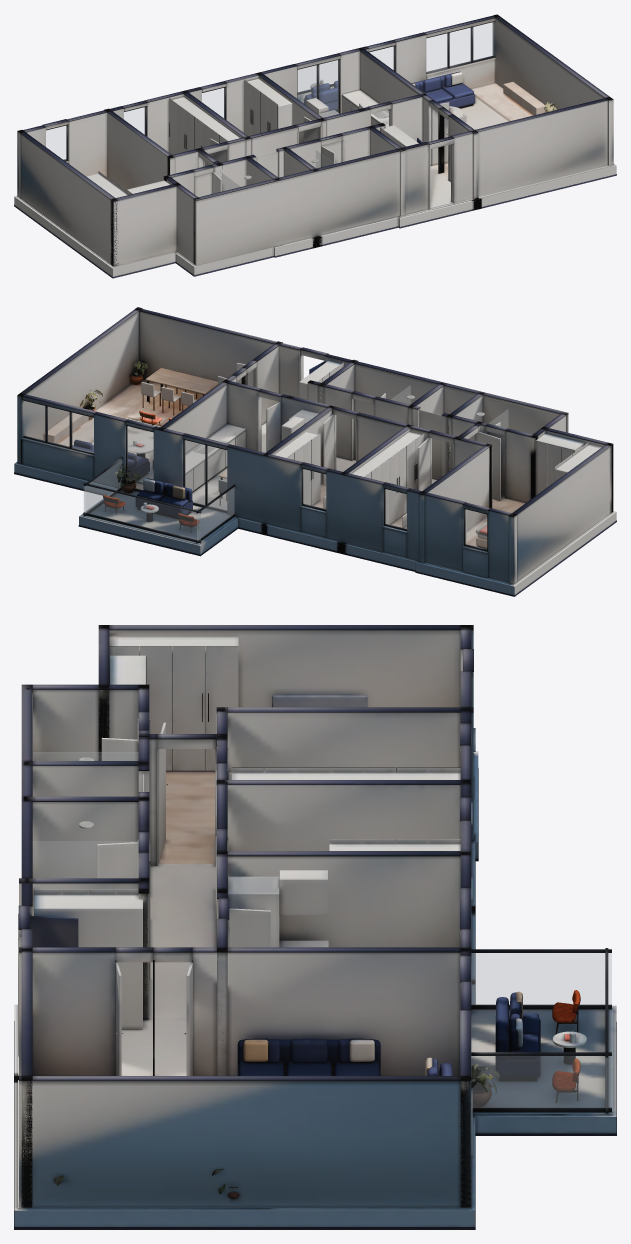
3 views of the same model, one above another, from view 1: azimuth 30°, elevation 25°; view 2: azimuth 150°, elevation 25°; view 3: azimuth 270°, elevation 25° (orthographic). The views are drawn at different scales.
Parts seen in each view (by area): view 1: plan, glass5_m, glass3_m, railg0_m, glass0_m, glass2_m, glass1_m; view 2: plan, railg0_m, glass5_m, glass3_m, glass4_m, railg4_m, railg5_m, glass2_m, glass0_m, glass1_m; view 3: plan, railg5_m, railg4_m, sg.001_m, sg_m.
Boxes of the visible parts, <box> form: plan: <box>14,14,616,278</box>; glass5_m: <box>426,22,493,71</box>; glass3_m: <box>298,60,338,112</box>; railg0_m: <box>298,60,337,91</box>; glass0_m: <box>46,126,66,159</box>; glass2_m: <box>202,88,224,118</box>; glass1_m: <box>124,107,145,134</box>; plan: <box>14,307,616,596</box>; railg0_m: <box>84,486,200,540</box>; glass5_m: <box>24,401,93,452</box>; glass3_m: <box>185,440,226,510</box>; glass4_m: <box>127,426,153,489</box>; railg4_m: <box>197,487,234,541</box>; railg5_m: <box>85,460,121,513</box>; glass2_m: <box>303,469,325,509</box>; glass0_m: <box>465,509,486,549</box>; glass1_m: <box>385,489,406,529</box>; plan: <box>14,625,616,1229</box>; railg5_m: <box>471,1056,611,1107</box>; railg4_m: <box>471,953,611,1004</box>; sg.001_m: <box>33,841,136,877</box>; sg_m: <box>33,752,138,760</box>.
Bounding box in the file's own units: 17.52 × 2.62 × 9.71.
Materials: 2 (1 with a texture image).
